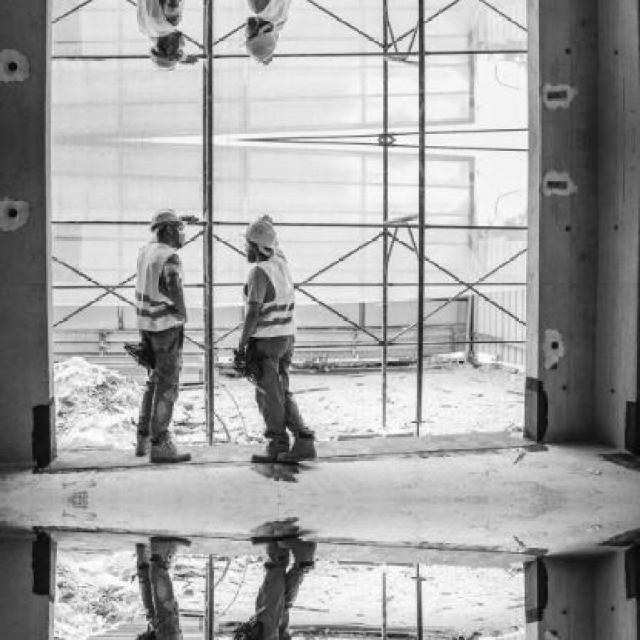head_helmet: (244, 216, 284, 248), (146, 206, 186, 231)
person: (228, 215, 316, 468), (126, 209, 194, 473)
shoes: (250, 434, 294, 466), (276, 436, 319, 466), (146, 441, 192, 469), (134, 430, 157, 458)
vest: (134, 242, 184, 334), (242, 256, 294, 340)
